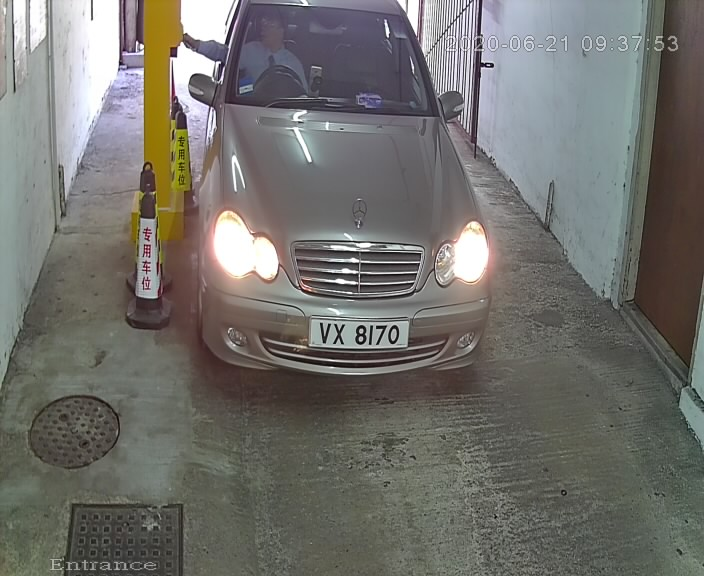privatecar: (184, 1, 508, 413)
